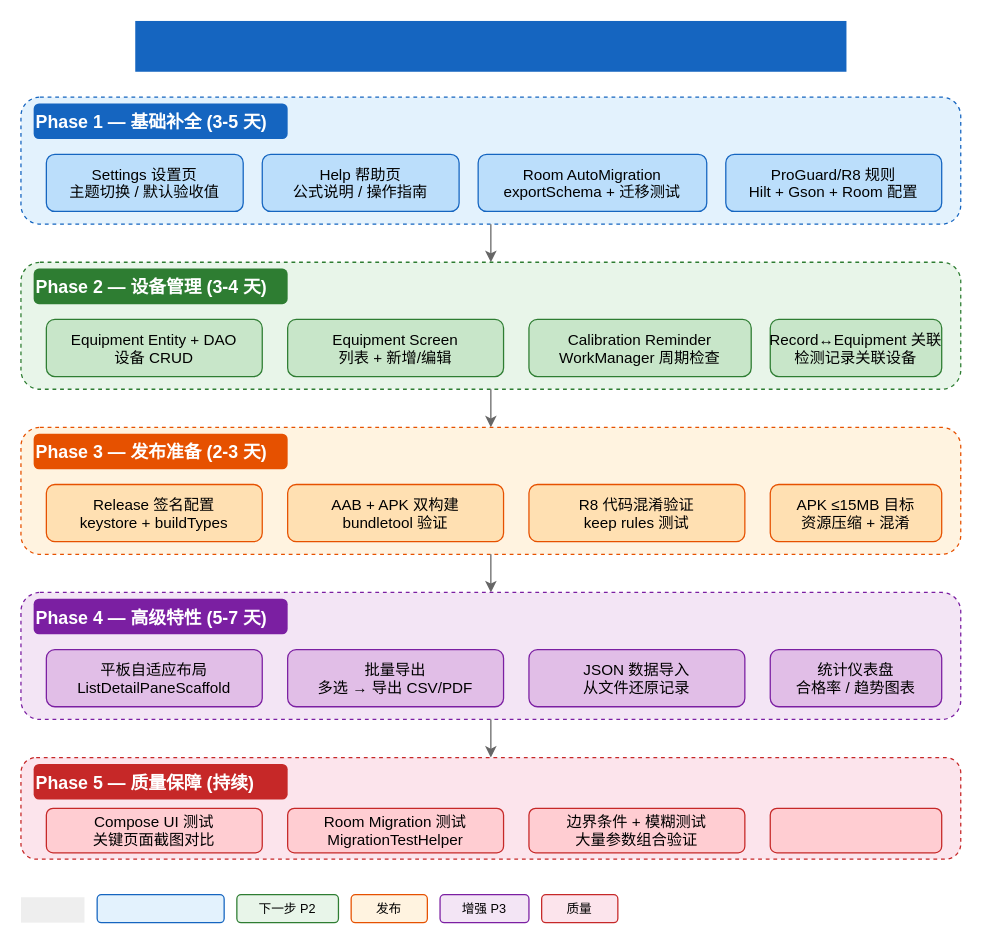
This 982x944 diagram has some shape labels left out. Here are the shapes that lost their labels. From the top down, the box of each, then its label:
(135, 20, 846, 71): 氦检漏计算器 — 下一步开发路线图
(769, 807, 942, 853): CI/CD GitHub Actions 自动构建 + 测试 + 签名
(20, 897, 84, 922): 图例
(96, 893, 224, 923): MVP 已完成 ✅
